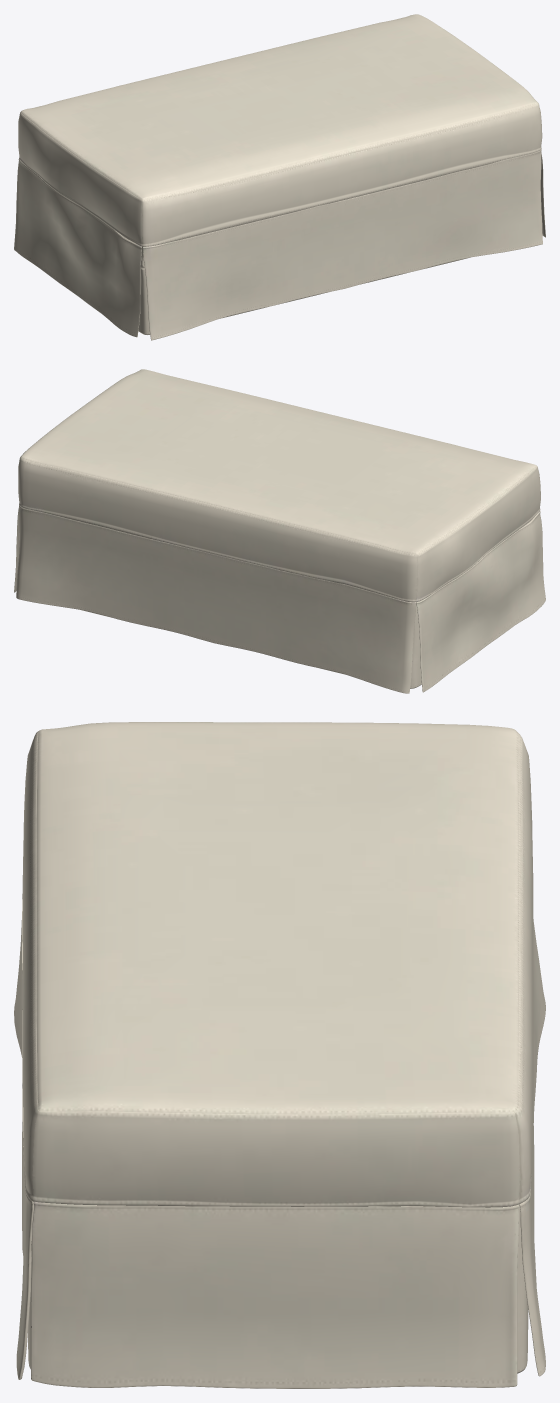
Rendered from abo-B07B4DBBVX.glb.
3 views of the same model, one above another, from view 1: azimuth 30°, elevation 25°; view 2: azimuth 150°, elevation 25°; view 3: azimuth 270°, elevation 25° (orthographic). The views are drawn at different scales.
Bounding box in the file's own units: 1.68 × 0.552 × 0.939.
1 material, 1 textured.
